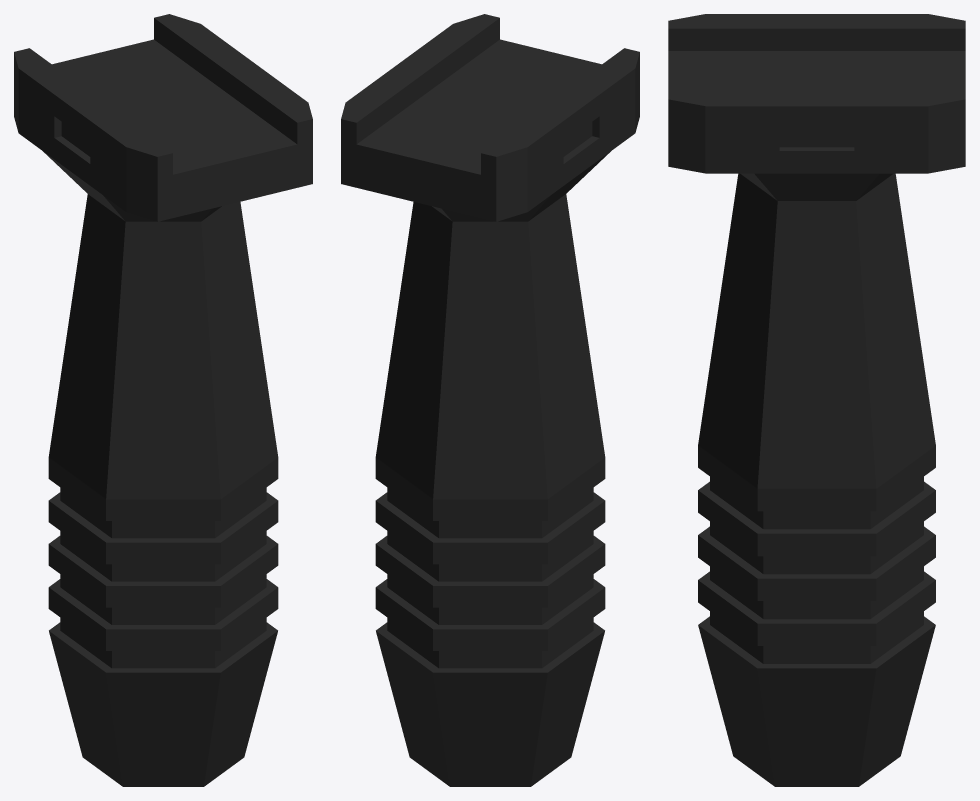
Rendered from ForwardGrip_C.fbx.
The picture shows the model from 3 angles, left to right: view 1: azimuth 30°, elevation 25°; view 2: azimuth 150°, elevation 25°; view 3: azimuth 270°, elevation 25°; orthographic projection. The views are drawn at different scales.
Visible parts, largest first — view 1: ForwardGrip_C; view 2: ForwardGrip_C; view 3: ForwardGrip_C.
Boxes of the visible parts, x1,y1,x2,y2 form: ForwardGrip_C: [14, 14, 312, 786]; ForwardGrip_C: [341, 14, 639, 786]; ForwardGrip_C: [668, 14, 965, 786].
Size of the model in its own units: 0.176 by 0.62 by 0.24.
